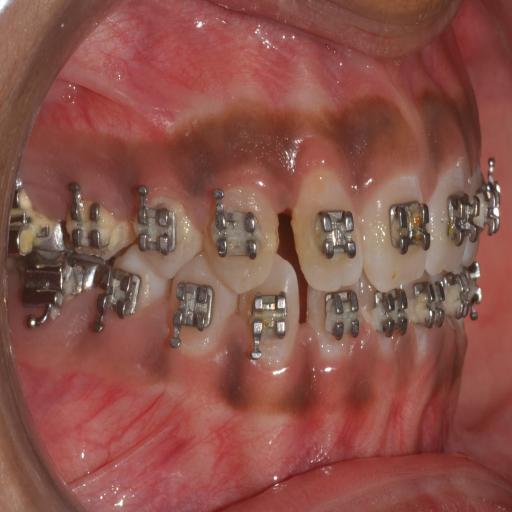correct_brace: (130, 179, 202, 282), (207, 184, 262, 265), (310, 200, 363, 266), (384, 196, 434, 262)
incorrect_brace: (292, 152, 368, 299), (133, 182, 178, 260)
